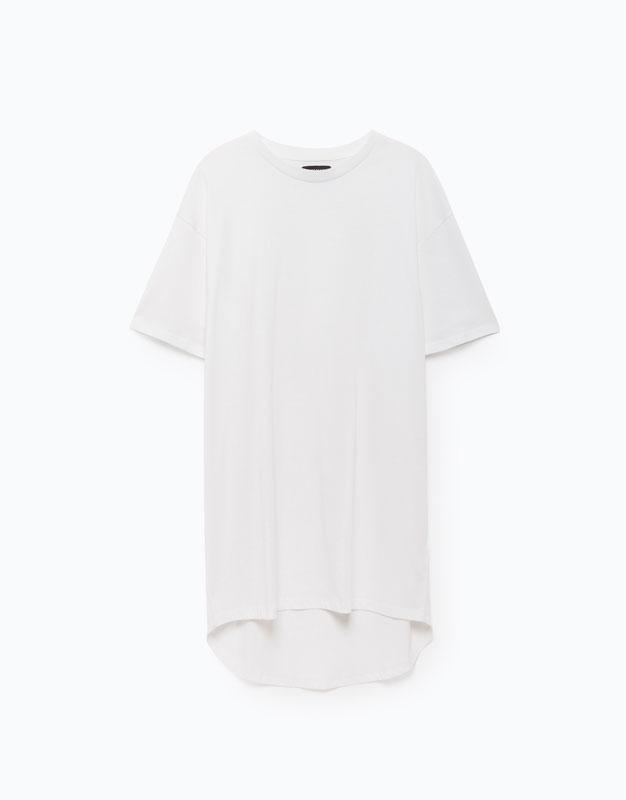teeshirt: (119, 111, 519, 686)
